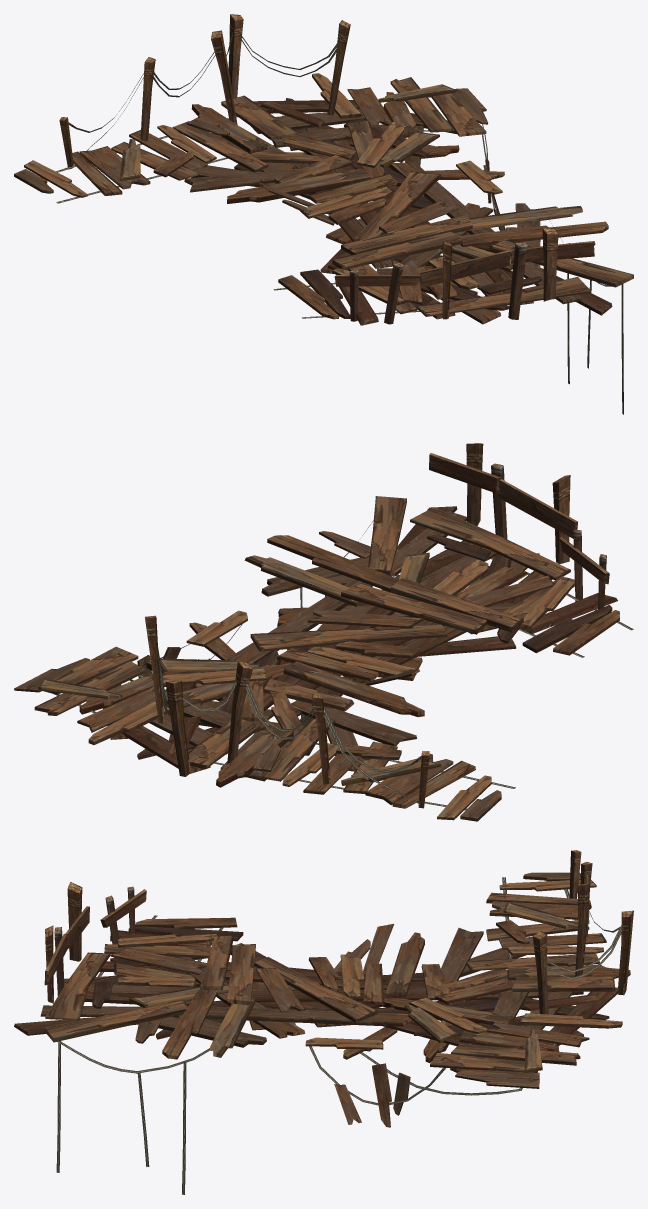
The model's file is 6001_Item_mutou_7.FBX.
The picture shows the model from 3 angles, top to bottom: view 1: azimuth 30°, elevation 25°; view 2: azimuth 150°, elevation 25°; view 3: azimuth 270°, elevation 25°; orthographic projection. The views are drawn at different scales.
Parts seen in each view (by area): view 1: 6001_Item_mutou_7; view 2: 6001_Item_mutou_7; view 3: 6001_Item_mutou_7.
Part boxes in pixels (bbox=[...]): 6001_Item_mutou_7: bbox=[14, 14, 633, 414]; 6001_Item_mutou_7: bbox=[14, 443, 633, 821]; 6001_Item_mutou_7: bbox=[14, 850, 633, 1194].
Size of the model in its own units: 465 by 247 by 580.
